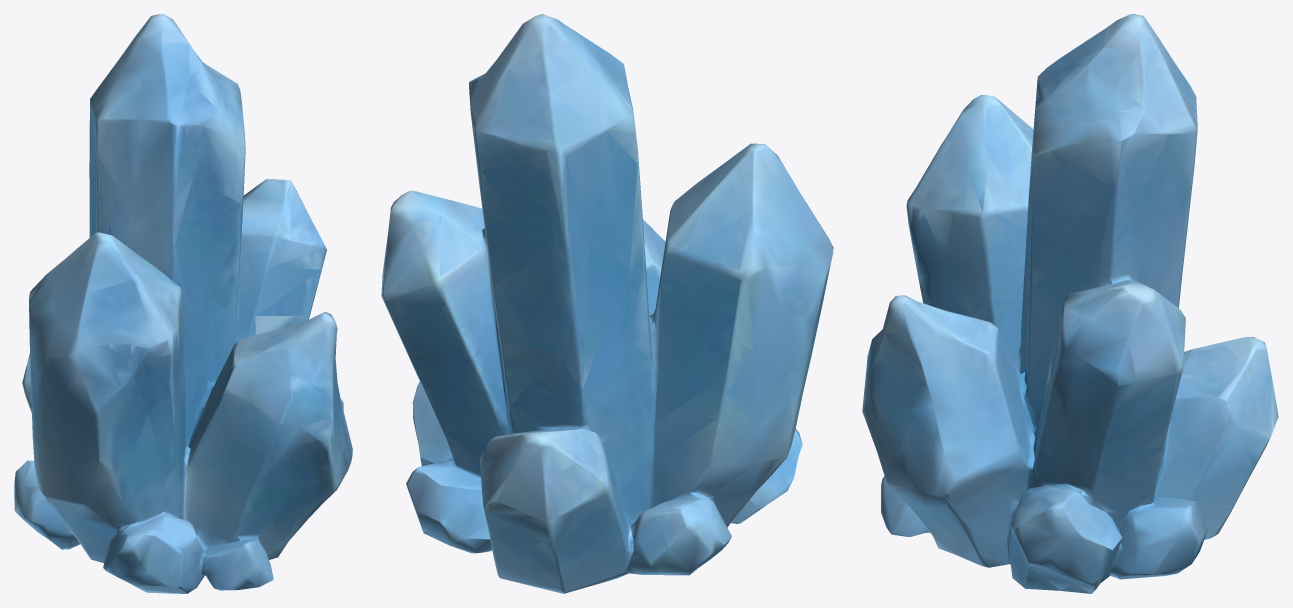
Rendered from racimo_hielo_p_2500.glb.
The picture shows the model from 3 angles, left to right: view 1: azimuth 30°, elevation 25°; view 2: azimuth 150°, elevation 25°; view 3: azimuth 270°, elevation 25°; orthographic projection. The views are drawn at different scales.
Visible parts, largest first — view 1: racimo_hielo_p_malla; view 2: racimo_hielo_p_malla; view 3: racimo_hielo_p_malla.
Boxes of the visible parts, x1,y1,x2,y2 form: racimo_hielo_p_malla: (14,14,352,593); racimo_hielo_p_malla: (381,14,833,593); racimo_hielo_p_malla: (862,14,1278,593).
Bounding box in the file's own units: 0.1216 × 0.1672 × 0.1212.
Materials: 1 (1 with a texture image).
